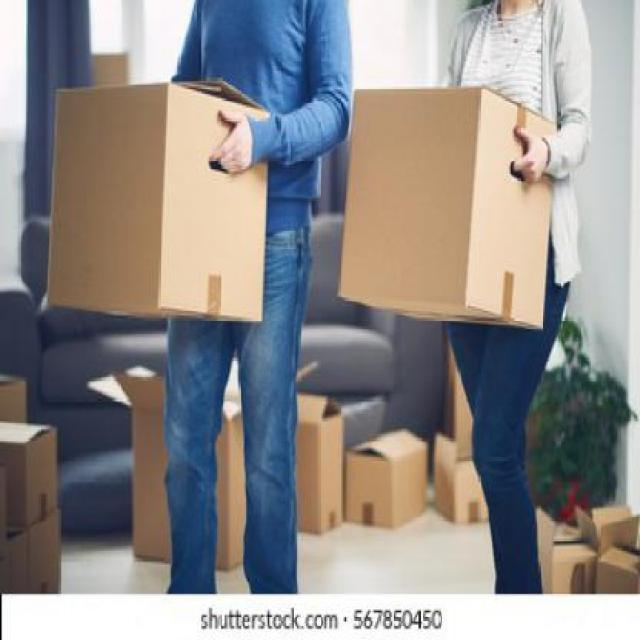box: (43, 78, 269, 316), (336, 85, 549, 323), (100, 366, 286, 572), (287, 388, 348, 546), (344, 428, 430, 526), (0, 421, 58, 516), (434, 428, 488, 528)
